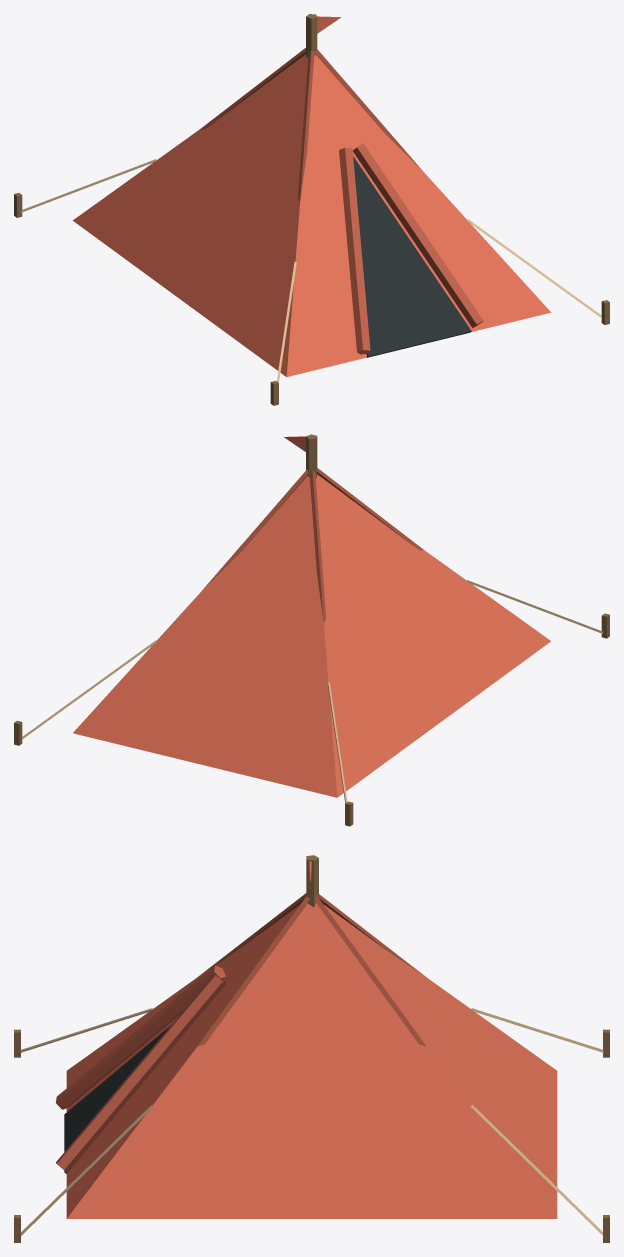
File: tent.glb
The picture shows the model from 3 angles, top to bottom: view 1: azimuth 30°, elevation 25°; view 2: azimuth 150°, elevation 25°; view 3: azimuth 270°, elevation 25°; orthographic projection. The views are drawn at different scales.
Visible parts, largest first — view 1: tent-m; view 2: tent-m; view 3: tent-m.
Boxes of the visible parts, x1,y1,x2,y2 form: tent-m: (14,14,609,405); tent-m: (14,434,609,826); tent-m: (14,855,609,1242).
Size of the model in its own units: 3.23 by 2.33 by 4.33.
